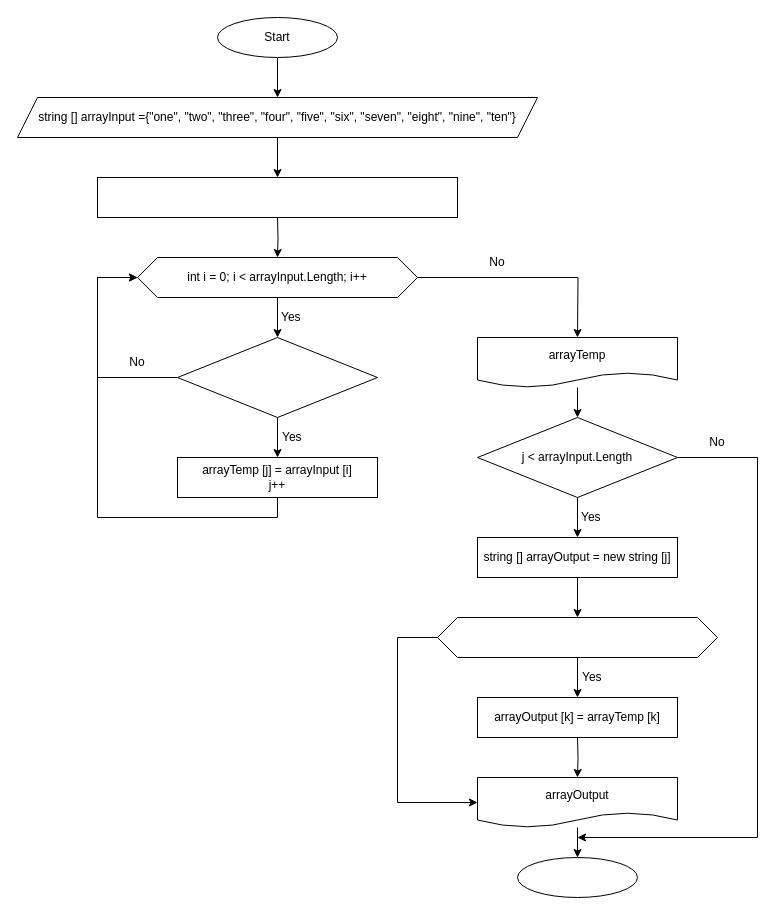
Some shapes in this 783 by 915 pixel diagram are drawn without their labels. Each missing label, with the box of its shape:
arrayInput [i].Length <= 3: (176, 336, 378, 418)
End: (516, 856, 638, 898)
int k = 0; k < arrayOutput.Length; j++: (436, 616, 718, 658)
string [] arrayTemp = new string [arrayInput.Length] int j = 0: (96, 176, 458, 218)
